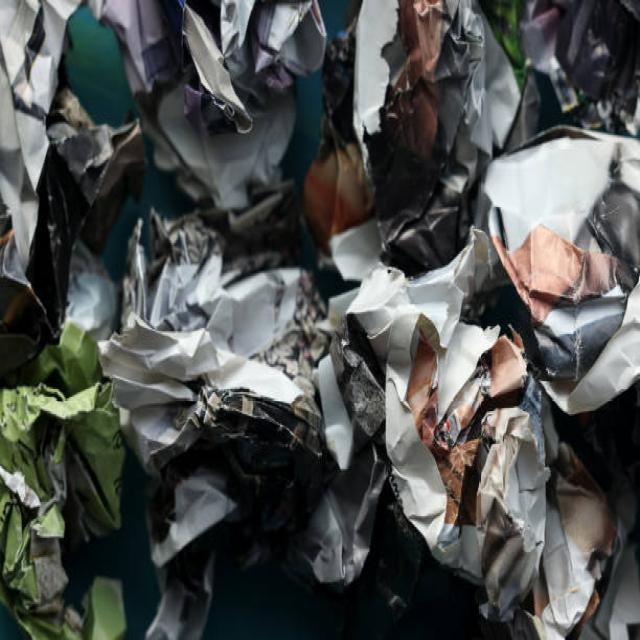paper: (108, 155, 527, 526)
